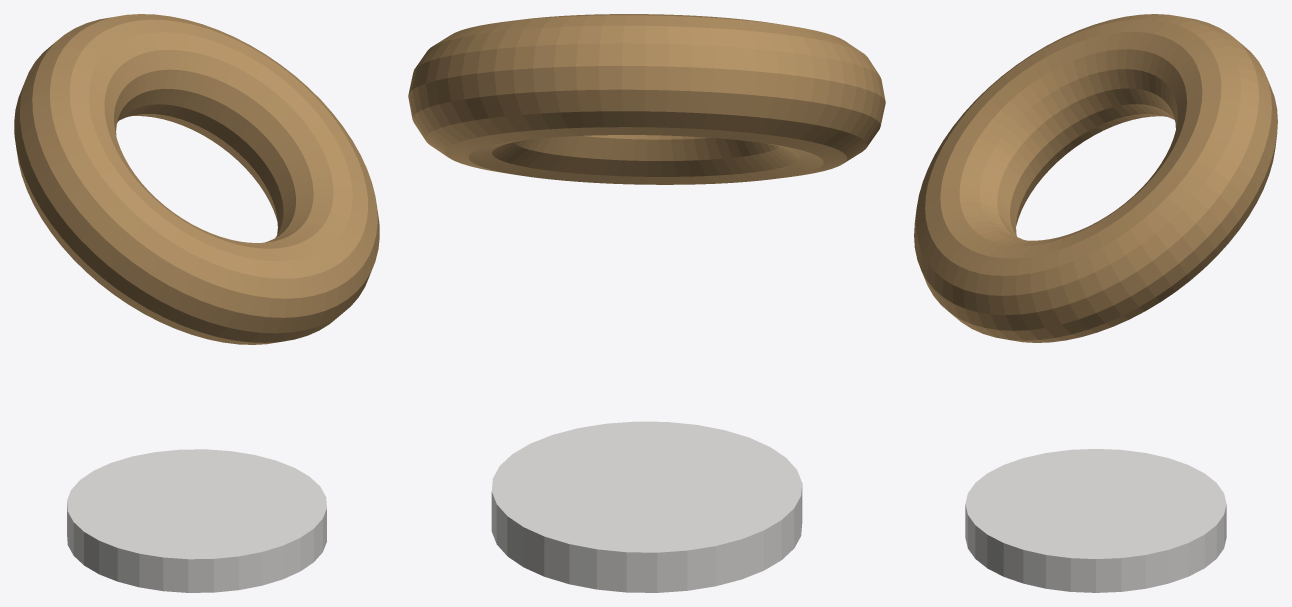
Rendered from sample-sculpture.glb.
The picture shows the model from 3 angles, left to right: view 1: azimuth 30°, elevation 25°; view 2: azimuth 150°, elevation 25°; view 3: azimuth 270°, elevation 25°; orthographic projection. The views are drawn at different scales.
Visible parts, largest first — view 1: SculptureKnot, SculptureBase; view 2: SculptureKnot, SculptureBase; view 3: SculptureKnot, SculptureBase.
Part boxes in pixels (bbox=[...]): SculptureKnot: bbox=[14, 14, 379, 344]; SculptureBase: bbox=[67, 449, 326, 592]; SculptureKnot: bbox=[408, 14, 885, 184]; SculptureBase: bbox=[491, 421, 802, 592]; SculptureKnot: bbox=[914, 14, 1277, 342]; SculptureBase: bbox=[965, 448, 1226, 592].
Size of the model in its own units: 0.8353 by 1.13 by 0.7804.
